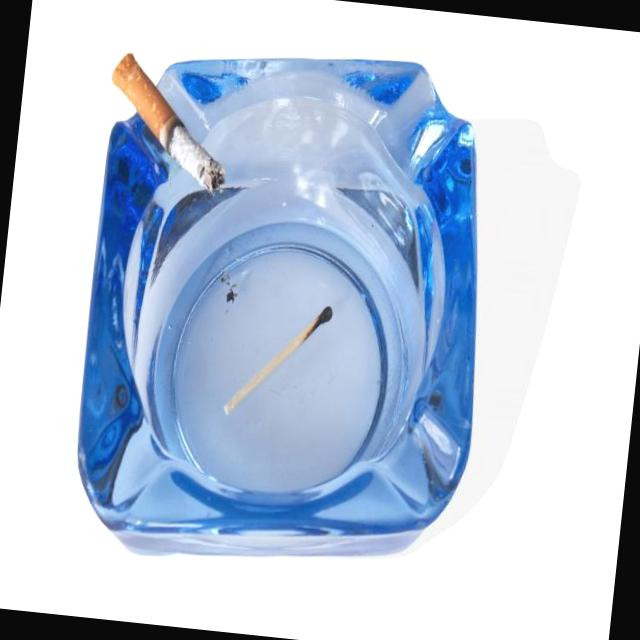smoke: (89, 36, 262, 200)
